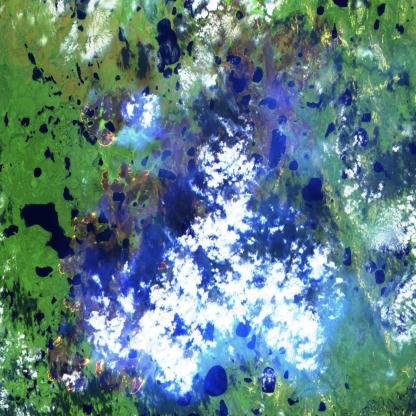fire: (40, 89, 261, 416)
